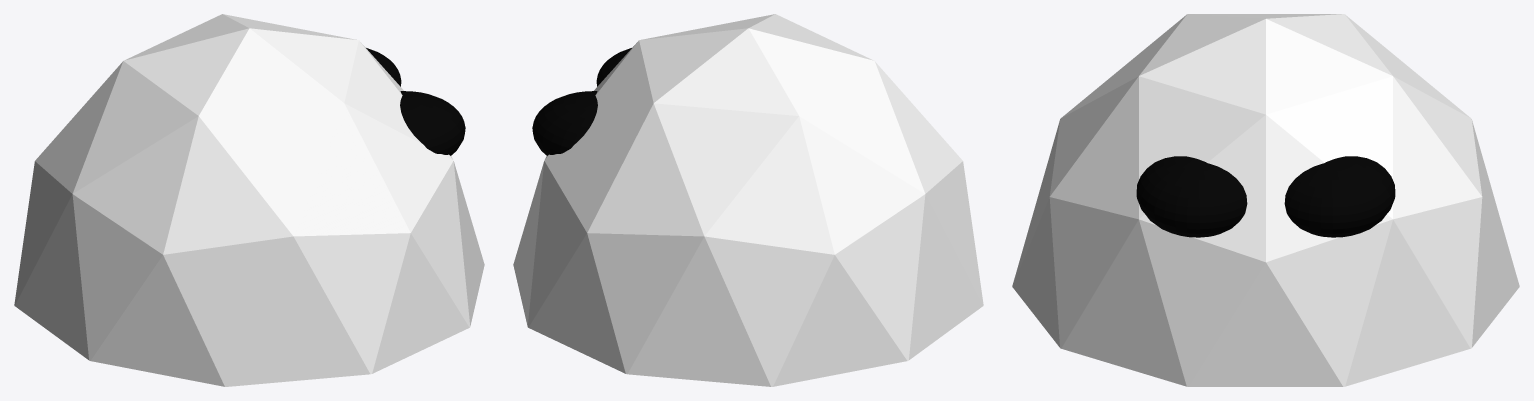
File: blob.obj
3 views of the same model, side by side, from view 1: azimuth 30°, elevation 25°; view 2: azimuth 150°, elevation 25°; view 3: azimuth 270°, elevation 25° (orthographic). The views are drawn at different scales.
Visible parts, largest first — view 1: Sphere.001; view 2: Sphere.001; view 3: Sphere.001.
Boxes of the visible parts, bbox=[...] form: Sphere.001: bbox=[14, 14, 484, 386]; Sphere.001: bbox=[513, 14, 983, 386]; Sphere.001: bbox=[1012, 14, 1519, 386].
Size of the model in its own units: 0.1459 by 0.0906 by 0.1557.
2 materials, 2 textured.
